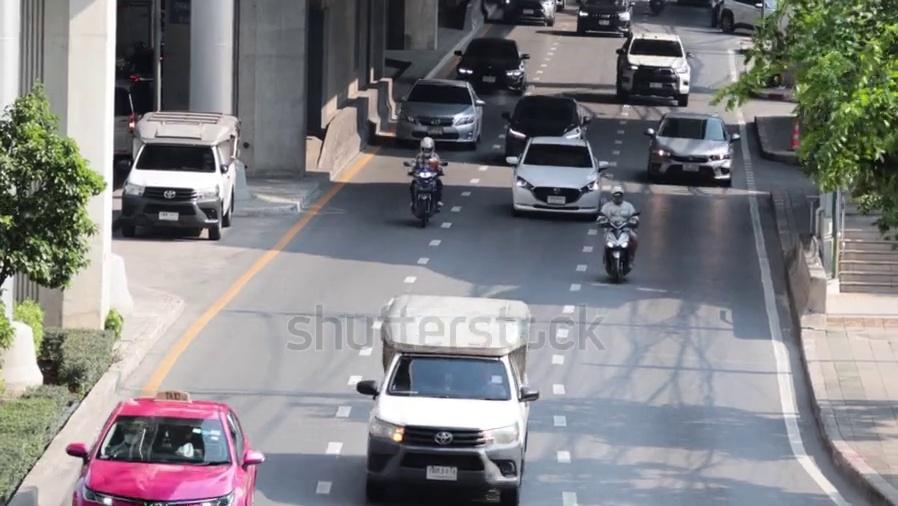rider: (596, 184, 639, 267), (407, 136, 444, 208)
with_helmate: (417, 138, 434, 156), (609, 186, 624, 204)
